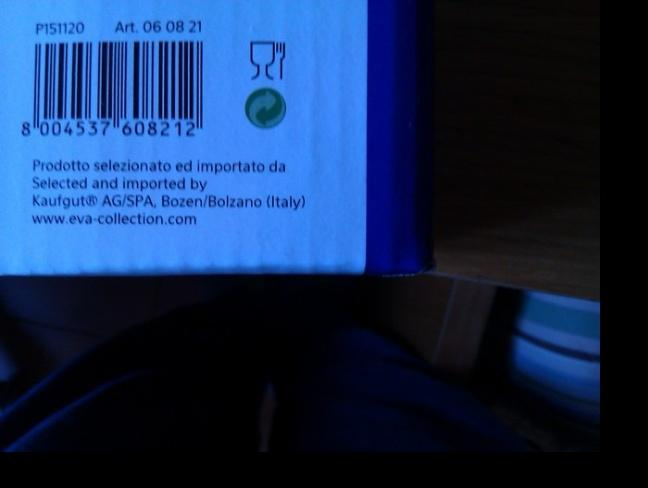Barcode: (11, 35, 218, 148)
